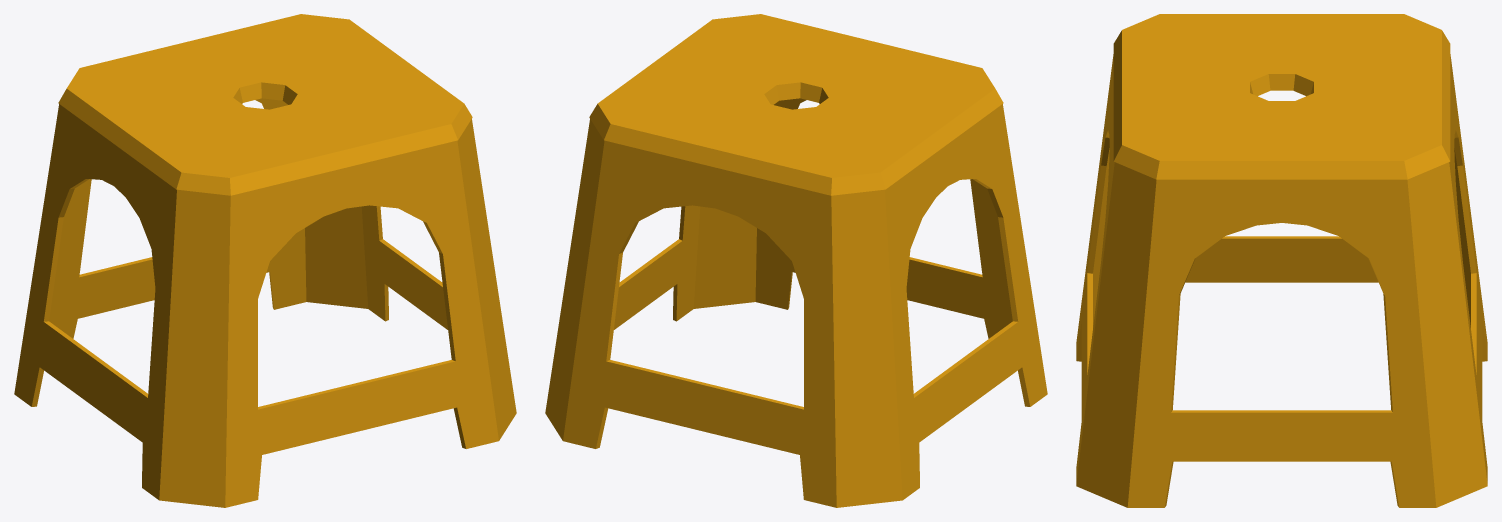
File: SM_Furniture_StoolLow_Yellow_01.glb
3 renders of one model, left to right at view 1: azimuth 30°, elevation 25°; view 2: azimuth 150°, elevation 25°; view 3: azimuth 270°, elevation 25°, orthographic. The views are drawn at different scales.
Visible parts, largest first — view 1: SM_Furniture_StoolLow_Yellow_01; view 2: SM_Furniture_StoolLow_Yellow_01; view 3: SM_Furniture_StoolLow_Yellow_01.
Part boxes in pixels (x1,y1,x2,y2): SM_Furniture_StoolLow_Yellow_01: (14, 14, 516, 507); SM_Furniture_StoolLow_Yellow_01: (545, 14, 1047, 507); SM_Furniture_StoolLow_Yellow_01: (1076, 14, 1487, 507).
Size of the model in its own units: 0.316 by 0.26 by 0.296.
1 material, 1 textured.
